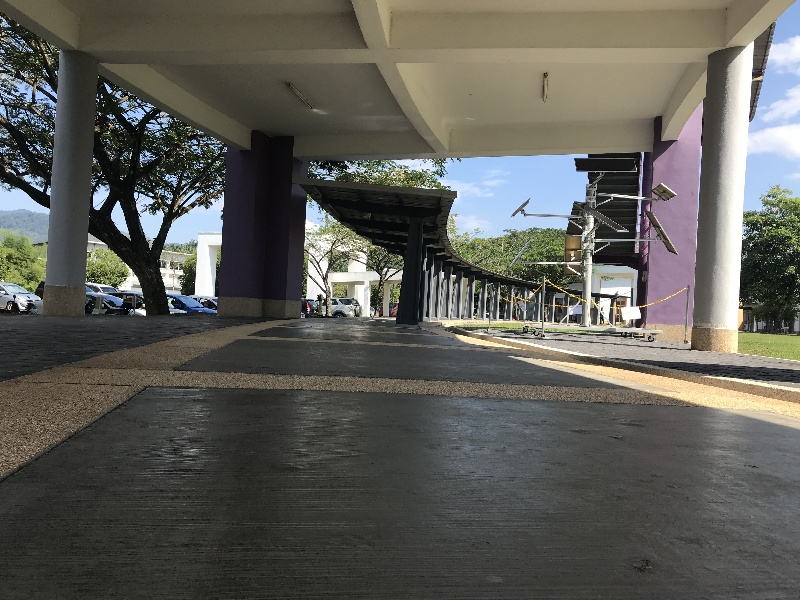pillar: (202, 118, 317, 335), (699, 49, 756, 375), (46, 31, 97, 326), (646, 92, 692, 349), (389, 215, 428, 334)
